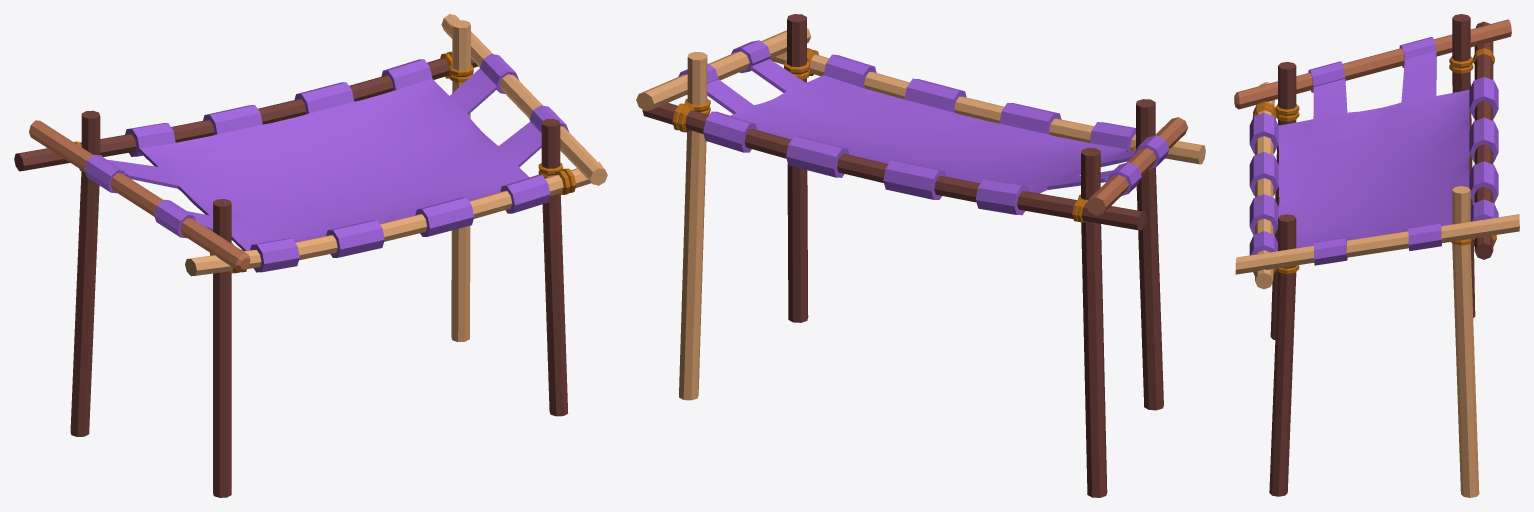
The model's file is Canopy 02.fbx.
3 views of the same model, side by side, from view 1: azimuth 30°, elevation 25°; view 2: azimuth 150°, elevation 25°; view 3: azimuth 270°, elevation 25° (orthographic). The views are drawn at different scales.
Visible parts, largest first — view 1: Canopy 02; view 2: Canopy 02; view 3: Canopy 02.
Boxes of the visible parts, x1,y1,x2,y2 form: Canopy 02: (14,14,607,497); Canopy 02: (636,14,1205,497); Canopy 02: (1234,14,1519,497).
Bounding box in the file's own units: 464 × 303 × 259.
